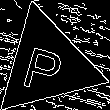P_N: (23, 35, 72, 93)
